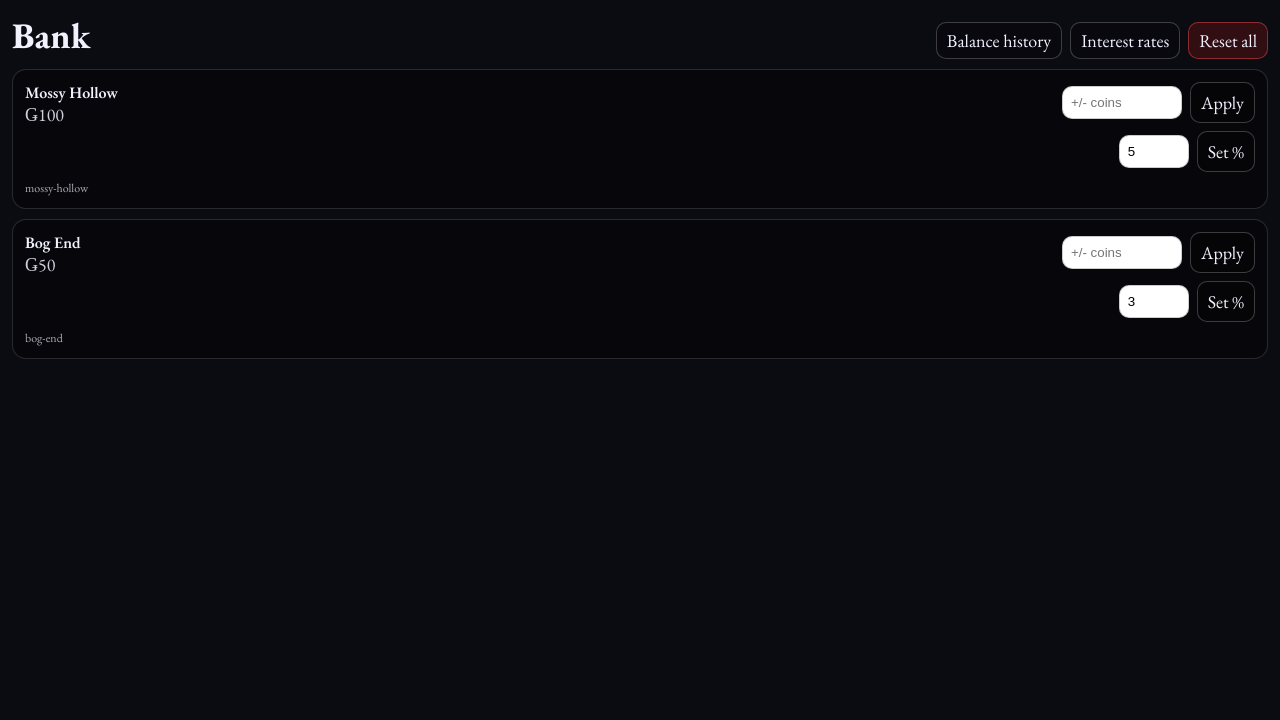
Scenario: OfficeBank › a blank interest rate is not saved as 0%
Clear the 1st field showing "5" at {"x": 1154, "y": 152}, box 1119,135 -> 1189,168
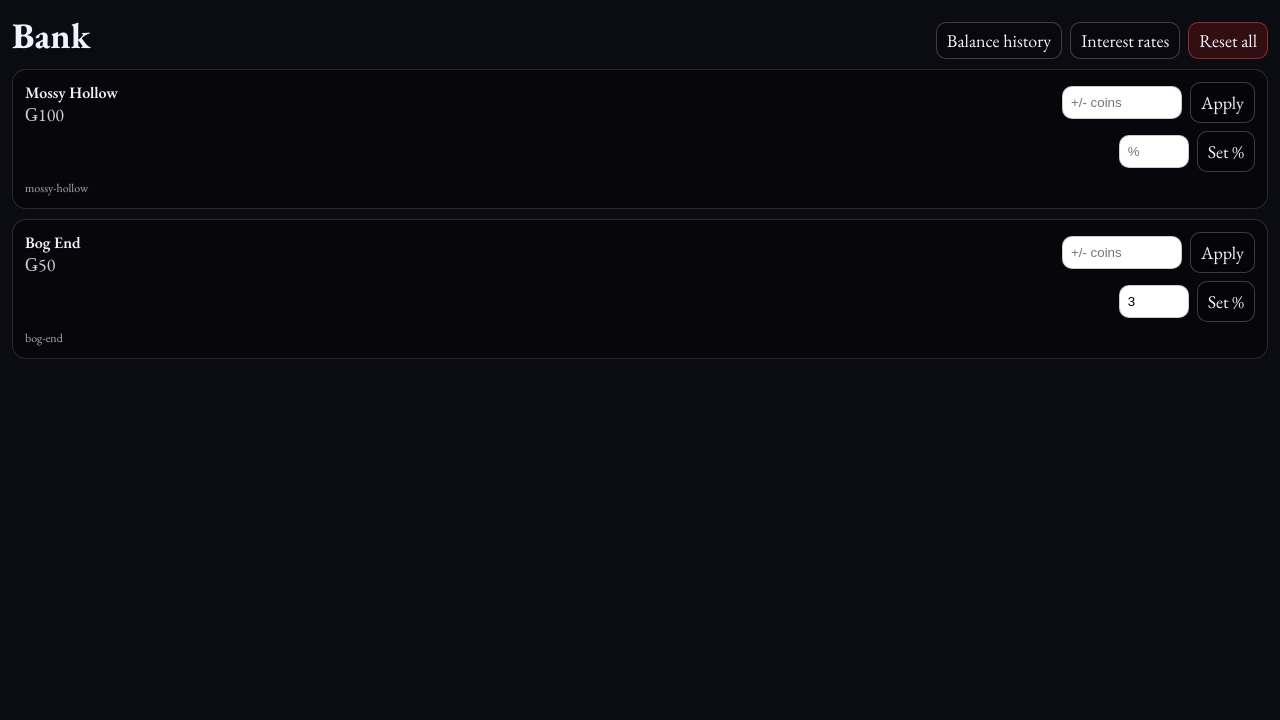
Click the 1st button "Set %" at {"x": 1226, "y": 152}, box 1197,131 -> 1255,172
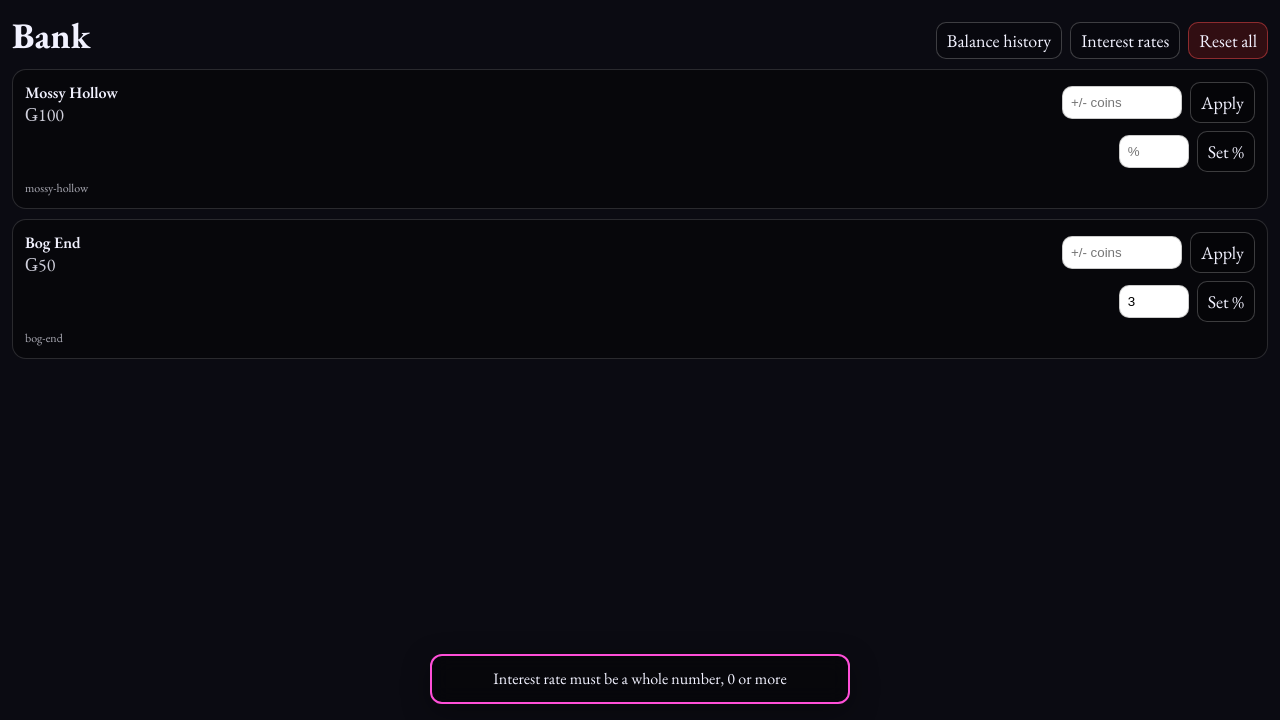
Check: the text "Interest rate must be a whole number, 0 or more" is shown, box 430,654 -> 850,704
